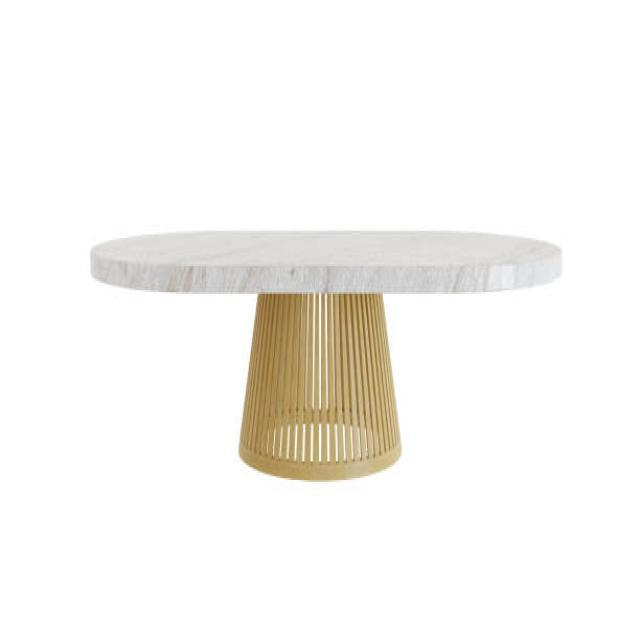table: (89, 225, 563, 480)
